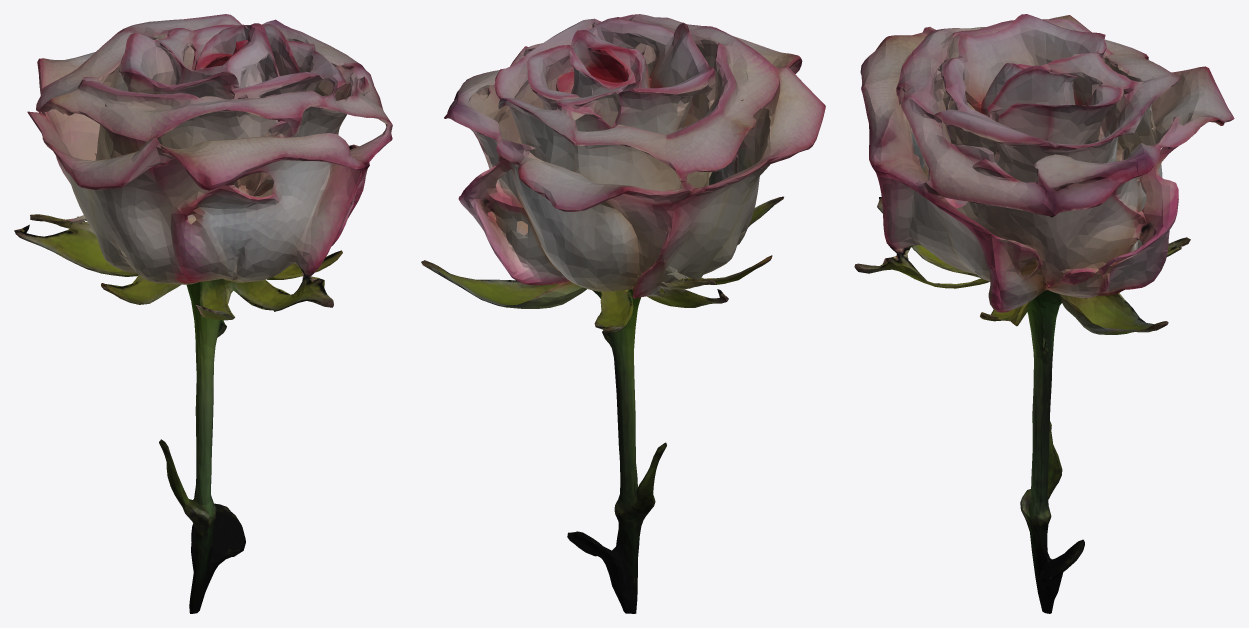
The picture shows the model from 3 angles, left to right: view 1: azimuth 30°, elevation 25°; view 2: azimuth 150°, elevation 25°; view 3: azimuth 270°, elevation 25°; orthographic projection. The views are drawn at different scales.
Visible parts, largest first — view 1: world; view 2: world; view 3: world.
Boxes of the visible parts, x1=… form: world: x1=14, y1=14, x2=392, y2=613; world: x1=421, y1=14, x2=825, y2=613; world: x1=854, y1=14, x2=1234, y2=613.
Bounding box in the file's own units: 0.5942 × 1 × 0.6013.
1 material, 1 textured.
